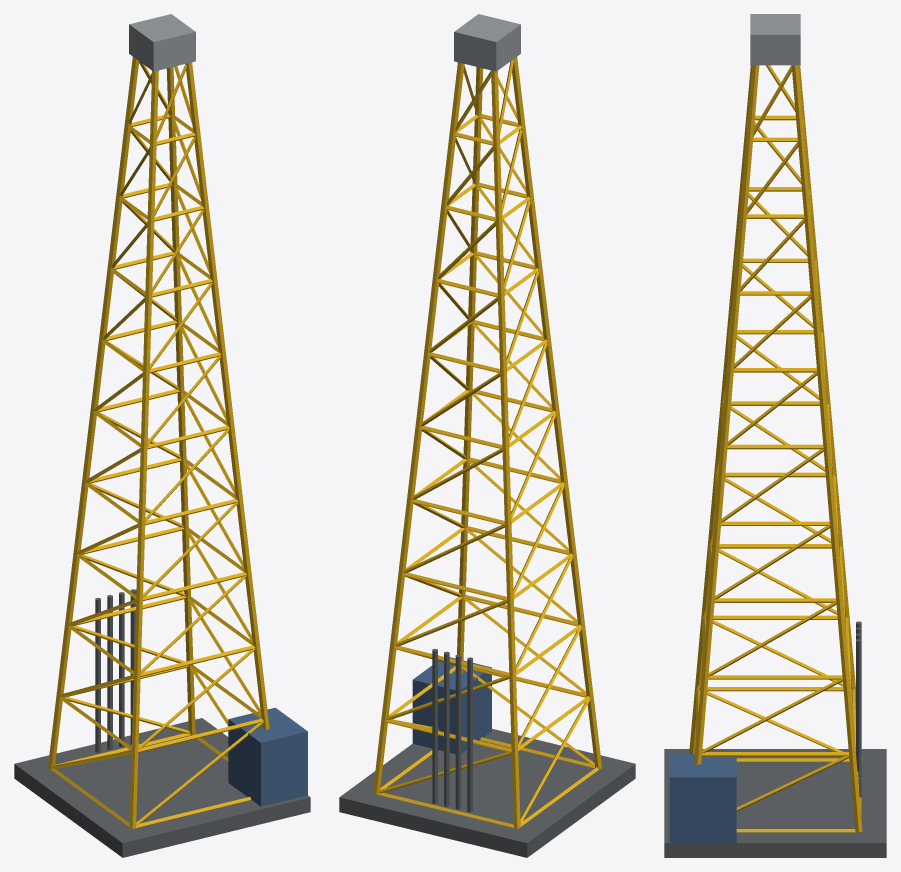
The model's file is pv_vrtna_vez.glb.
3 views of the same model, side by side, from view 1: azimuth 30°, elevation 25°; view 2: azimuth 150°, elevation 25°; view 3: azimuth 270°, elevation 25° (orthographic). The views are drawn at different scales.
Visible parts, largest first — view 1: dum; view 2: dum; view 3: dum.
Boxes of the visible parts, x1,y1,x2,y2 form: dum: (14,14,310,857); dum: (339,14,635,857); dum: (664,14,886,857).
Bounding box in the file's own units: 7.98 × 31.12 × 7.98.
Materials: 1 (1 with a texture image).
